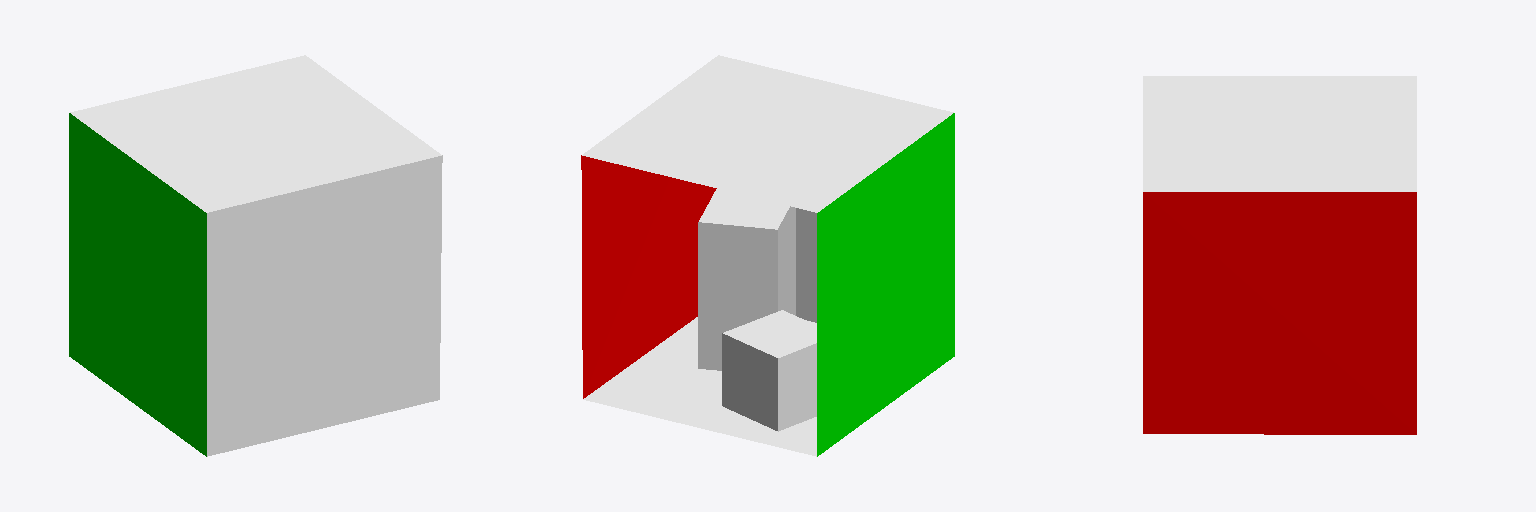
The model's file is cornell_tess5.obj.
3 renders of one model, left to right at view 1: azimuth 30°, elevation 25°; view 2: azimuth 150°, elevation 25°; view 3: azimuth 270°, elevation 25°, orthographic.
Parts seen in each view (by area): view 1: back_wall, green_wall, ceiling; view 2: green_wall, ceiling, red_wall, tall_block, floor, short_block, back_wall; view 3: red_wall, ceiling.
Boxes of the visible parts, x1,y1,x2,y2 form: back_wall: [207, 155, 442, 456]; green_wall: [69, 113, 206, 456]; ceiling: [70, 55, 441, 212]; green_wall: [817, 113, 954, 456]; ceiling: [582, 55, 953, 212]; red_wall: [581, 155, 716, 398]; tall_block: [698, 189, 795, 370]; floor: [583, 317, 816, 456]; short_block: [722, 310, 816, 431]; back_wall: [796, 208, 816, 322]; red_wall: [1143, 192, 1416, 434]; ceiling: [1143, 76, 1416, 191].
Size of the model in its own units: 556 by 549 by 559.